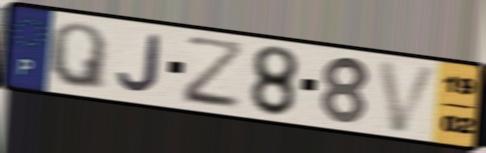8: (250, 43, 301, 118), (319, 54, 371, 126)
J: (115, 32, 163, 95)
Q: (47, 21, 109, 94)
V: (375, 58, 442, 135)
Z: (182, 34, 246, 112)
